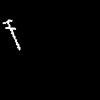double_crochet: (3, 20, 19, 49)
